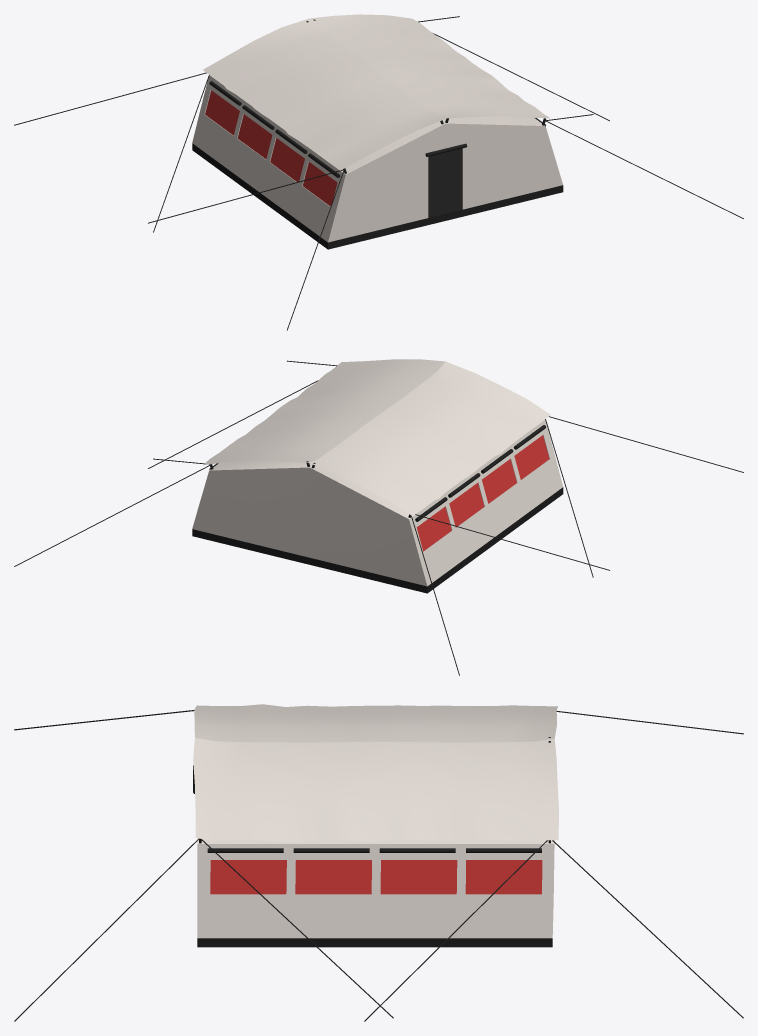
File: Tent.fbx
The picture shows the model from 3 angles, top to bottom: view 1: azimuth 30°, elevation 25°; view 2: azimuth 150°, elevation 25°; view 3: azimuth 270°, elevation 25°; orthographic projection. The views are drawn at different scales.
Parts seen in each view (by area): view 1: Cloth, Details, NetWindows; view 2: Cloth, Details, NetWindows; view 3: Cloth, NetWindows, Details.
Part boxes in pixels (x1,y1,x2,y2): Cloth: (192, 14, 562, 242); Details: (14, 16, 743, 330); NetWindows: (205, 90, 337, 206); Cloth: (192, 359, 562, 586); Details: (14, 360, 743, 675); NetWindows: (416, 435, 549, 551); Cloth: (193, 704, 558, 938); NetWindows: (210, 860, 542, 894); Details: (14, 710, 743, 1021).
Bounding box in the file's own units: 15.54 × 3.45 × 16.43.
